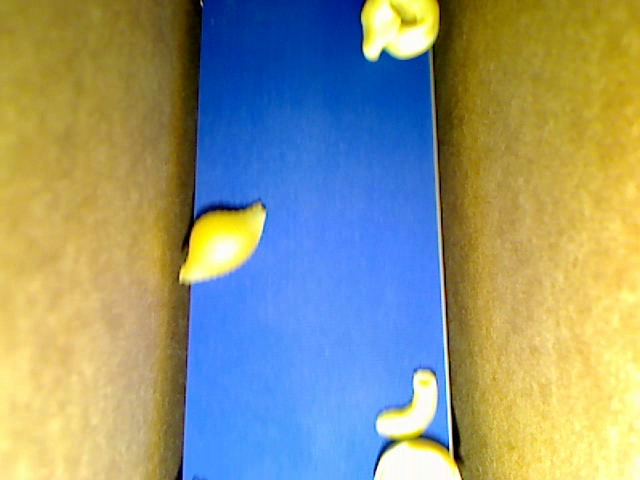elbow: (375, 369, 437, 439)
shell: (179, 201, 267, 284)
tortellini: (360, 1, 440, 62)
